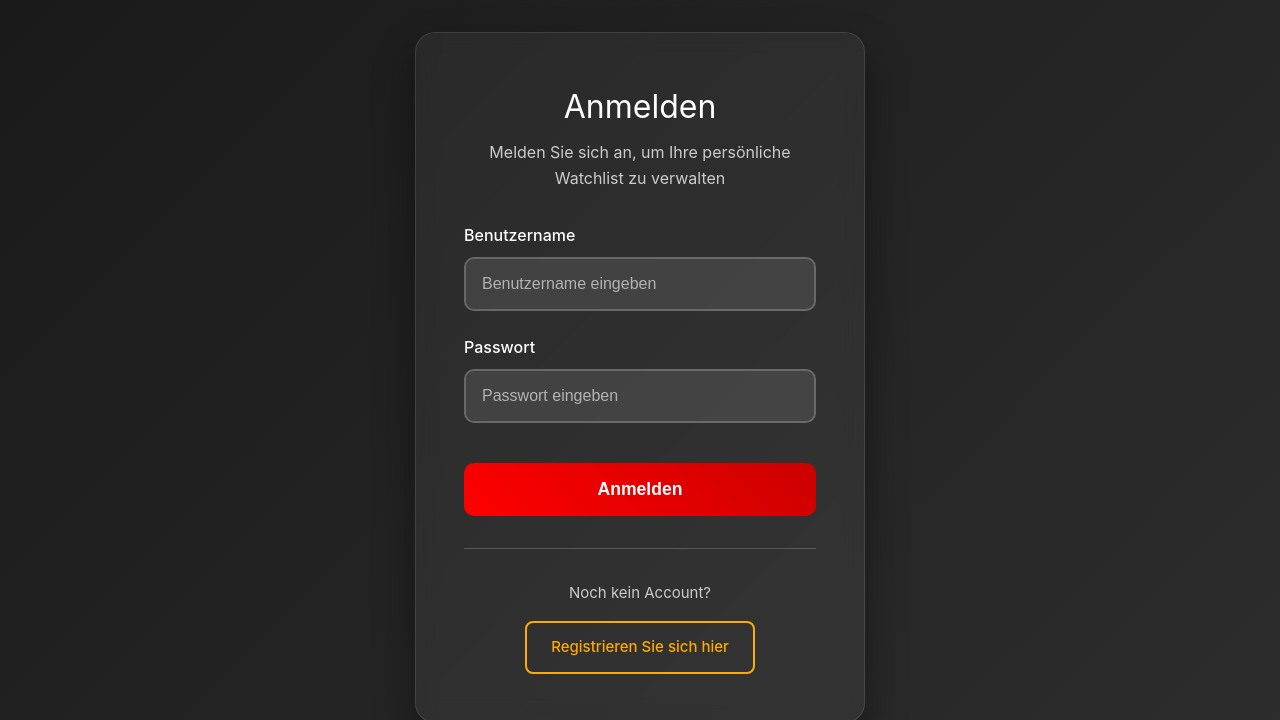
Test case: LoginComponent › sollte Loading-State korrekt anzeigen
Type "testuser" into the field labelled "Benutzername" at (640, 284), box [464,257,816,311]
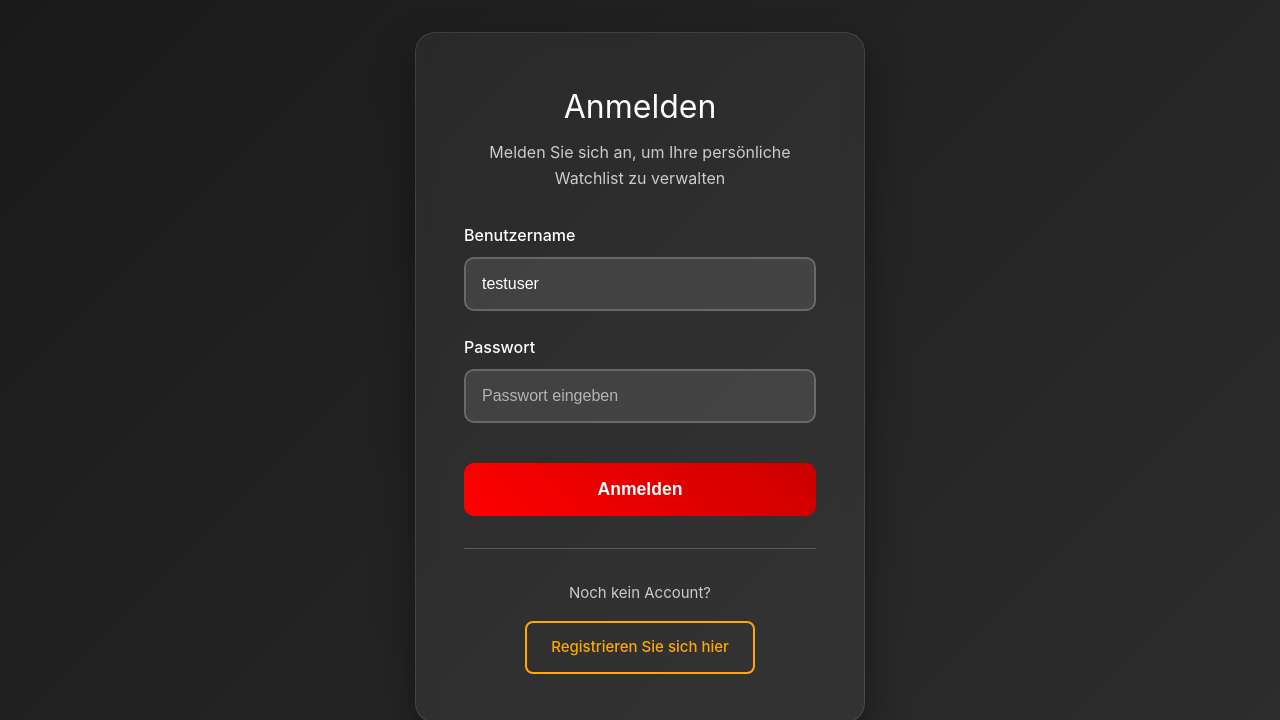
Type "testpassword" into the password field labelled "Passwort" at (640, 396), box [464,369,816,423]
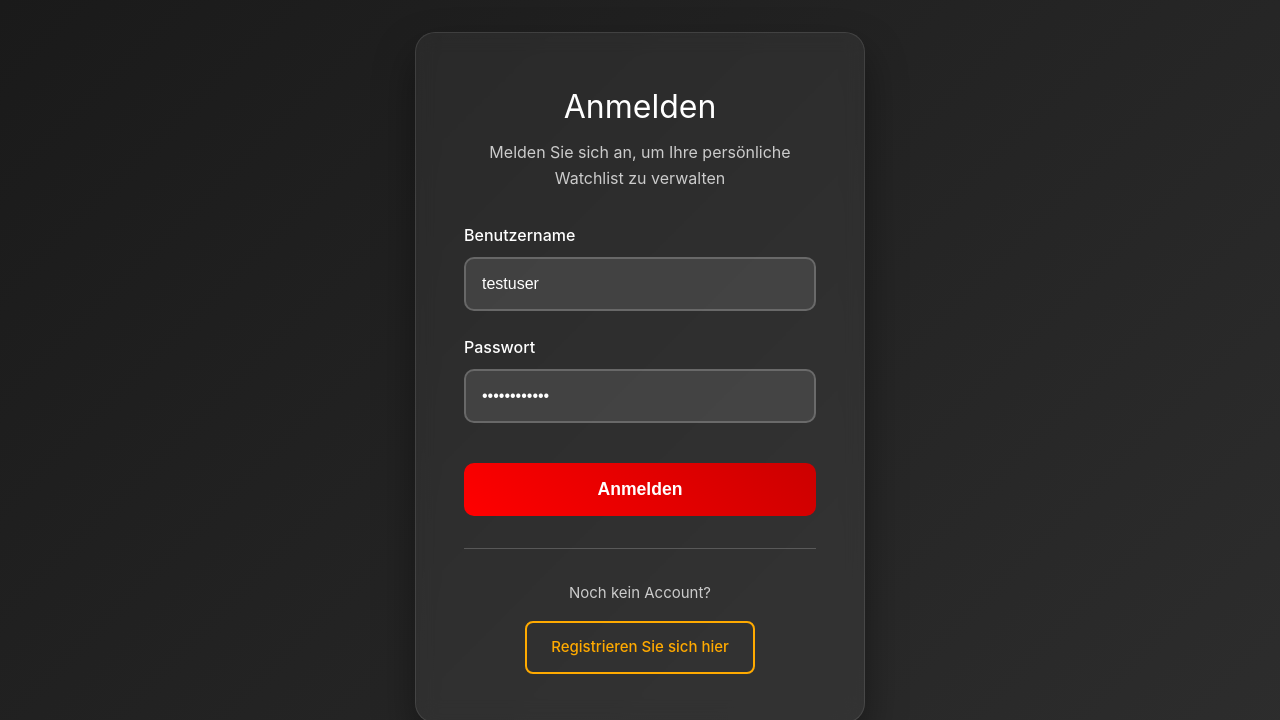
Submit the form, box [464,223,816,516]
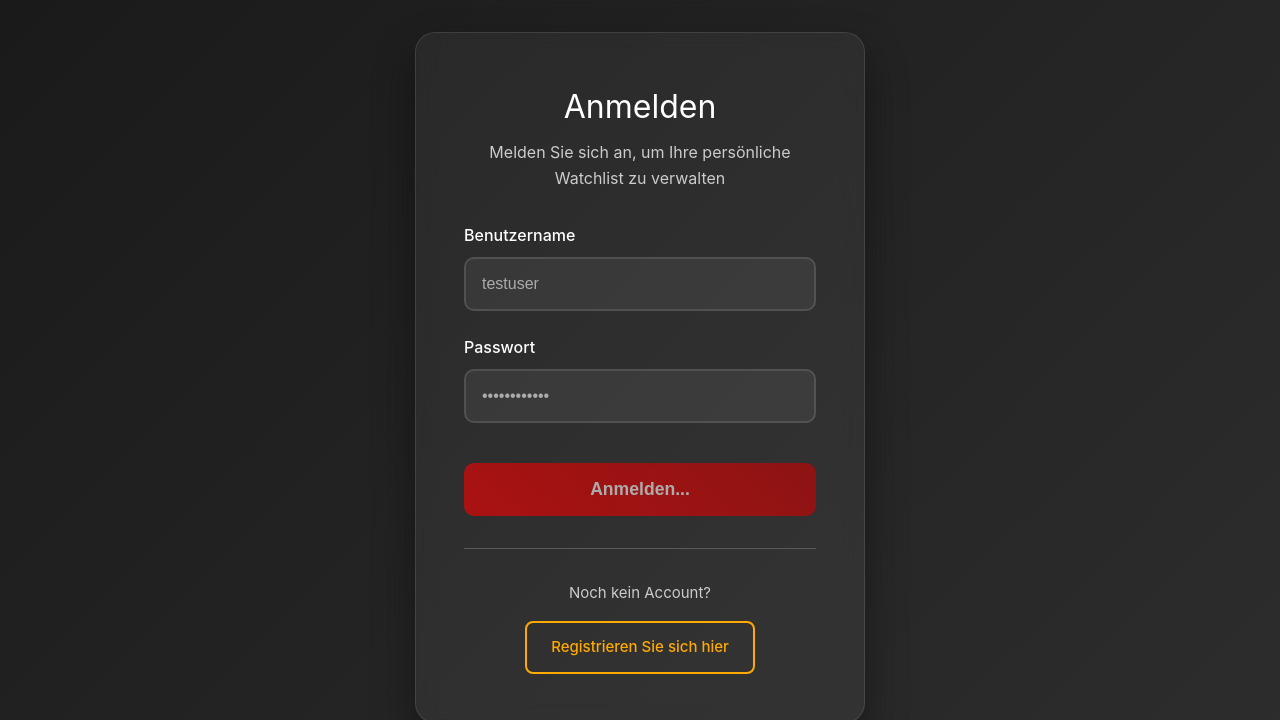
Expected: the submit button reads "Anmelden...", [464,463,816,516]
Expected: the submit button is disabled, [464,463,816,516]
